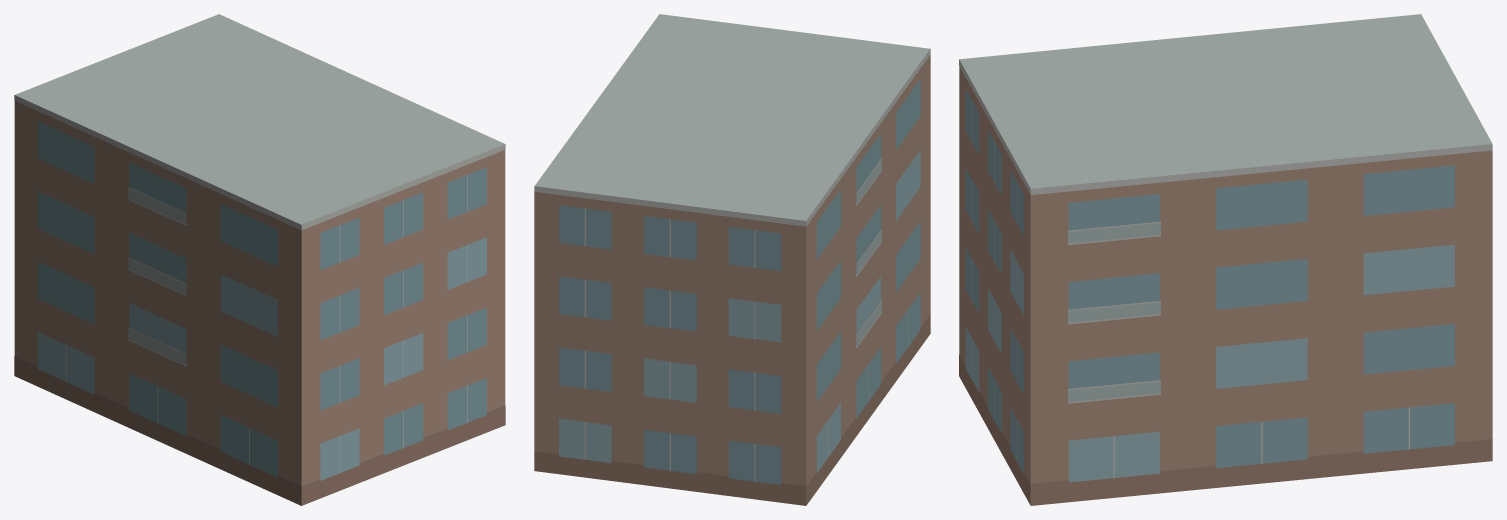
Rendered from survey-upis-32921769.glb.
3 renders of one model, left to right at view 1: azimuth 30°, elevation 25°; view 2: azimuth 150°, elevation 25°; view 3: azimuth 270°, elevation 25°, orthographic. The views are drawn at different scales.
Parts seen in each view (by area): view 1: survey-upis-32921769.tmp; view 2: survey-upis-32921769.tmp; view 3: survey-upis-32921769.tmp.
Boxes of the visible parts, x1,y1,x2,y2 form: survey-upis-32921769.tmp: (14, 14, 505, 505); survey-upis-32921769.tmp: (534, 14, 930, 505); survey-upis-32921769.tmp: (959, 14, 1492, 505).
Bounding box in the file's own units: 14.45 × 12.2 × 18.62.
